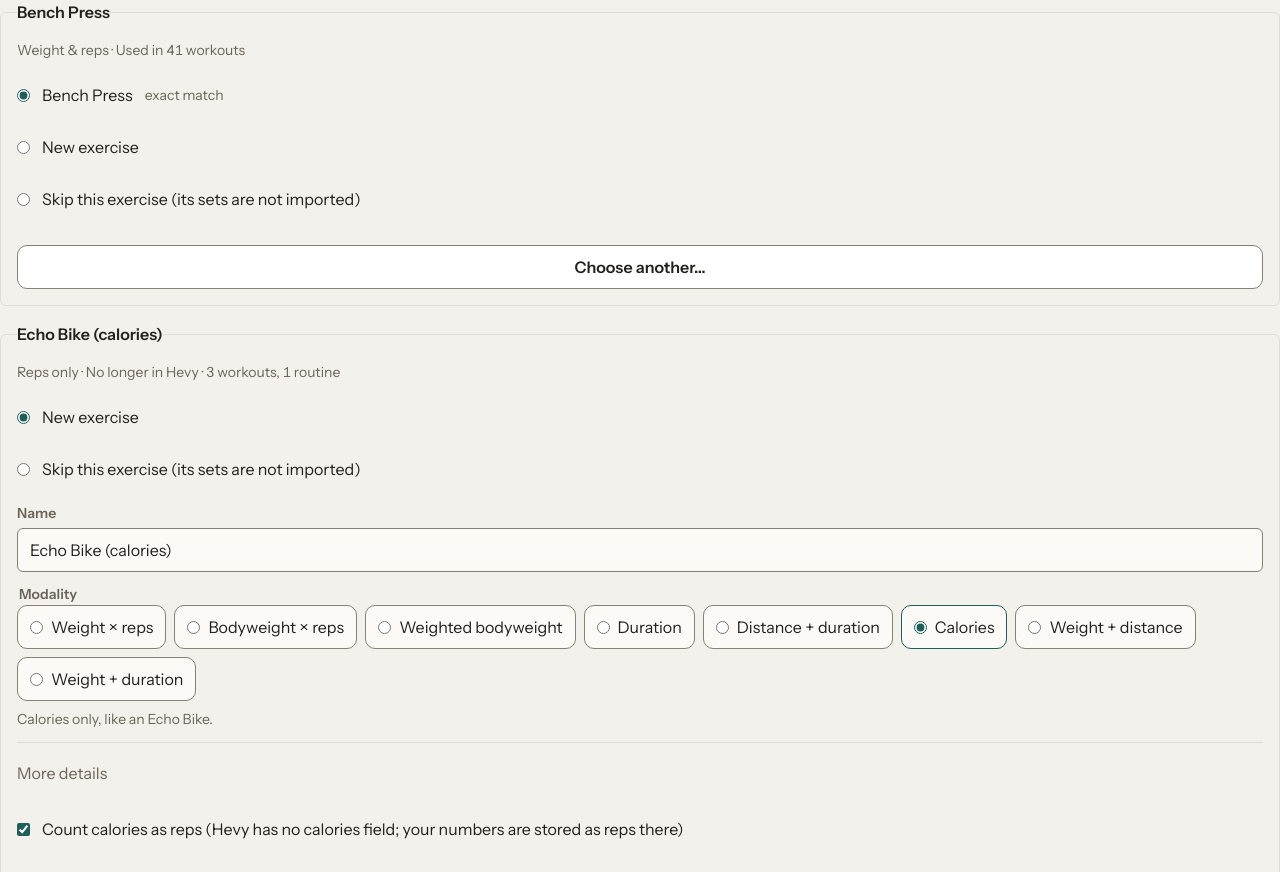
20.0 AC26 — PairingCards › Choose another opens the picker with no create row
Click the button with aria-label "Choose another… for Bench Press" at {"x": 640, "y": 267}, box x1=17 y1=245 x2=1263 y2=289
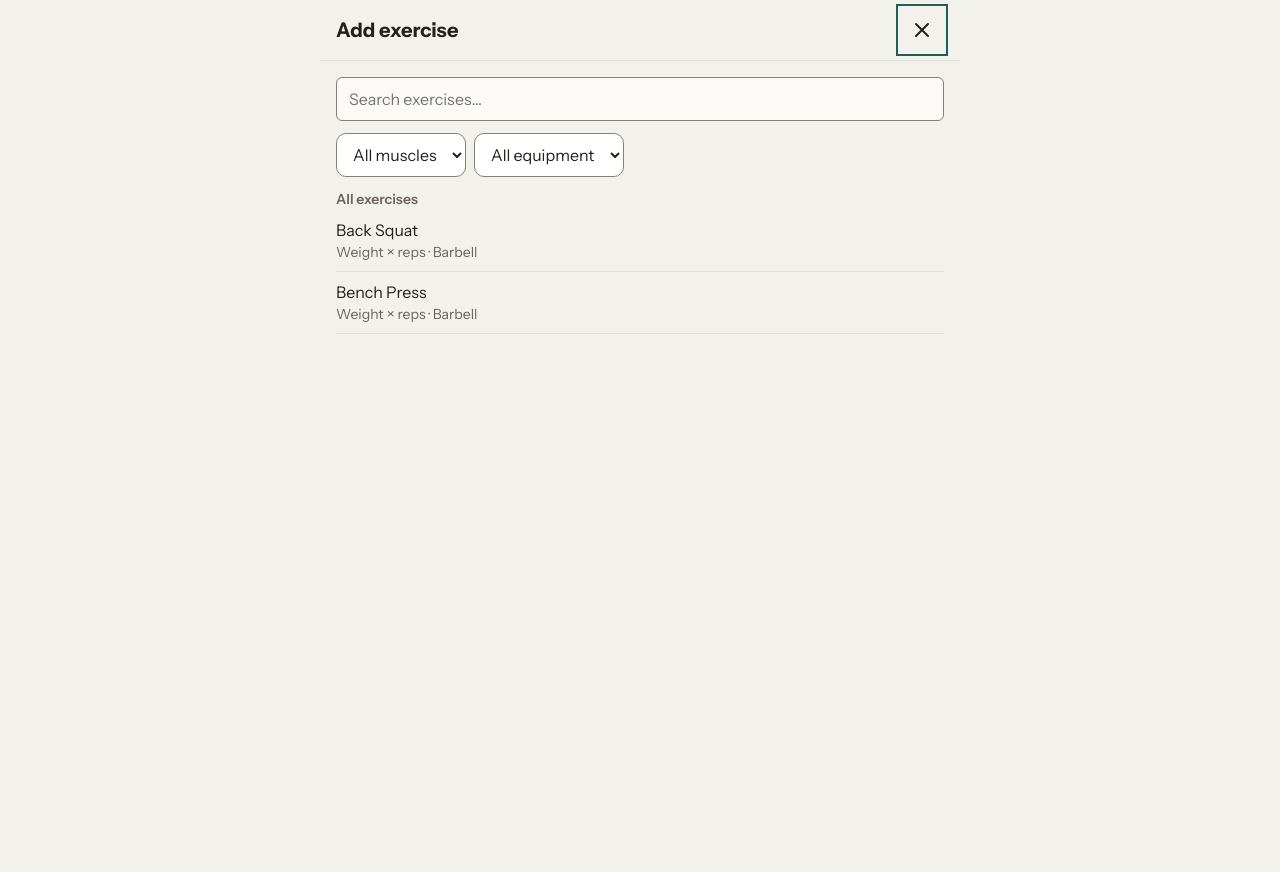
Click the button "Back Squat Weight × reps · Barbell" at {"x": 377, "y": 230}, box x1=336 y1=210 x2=944 y2=272
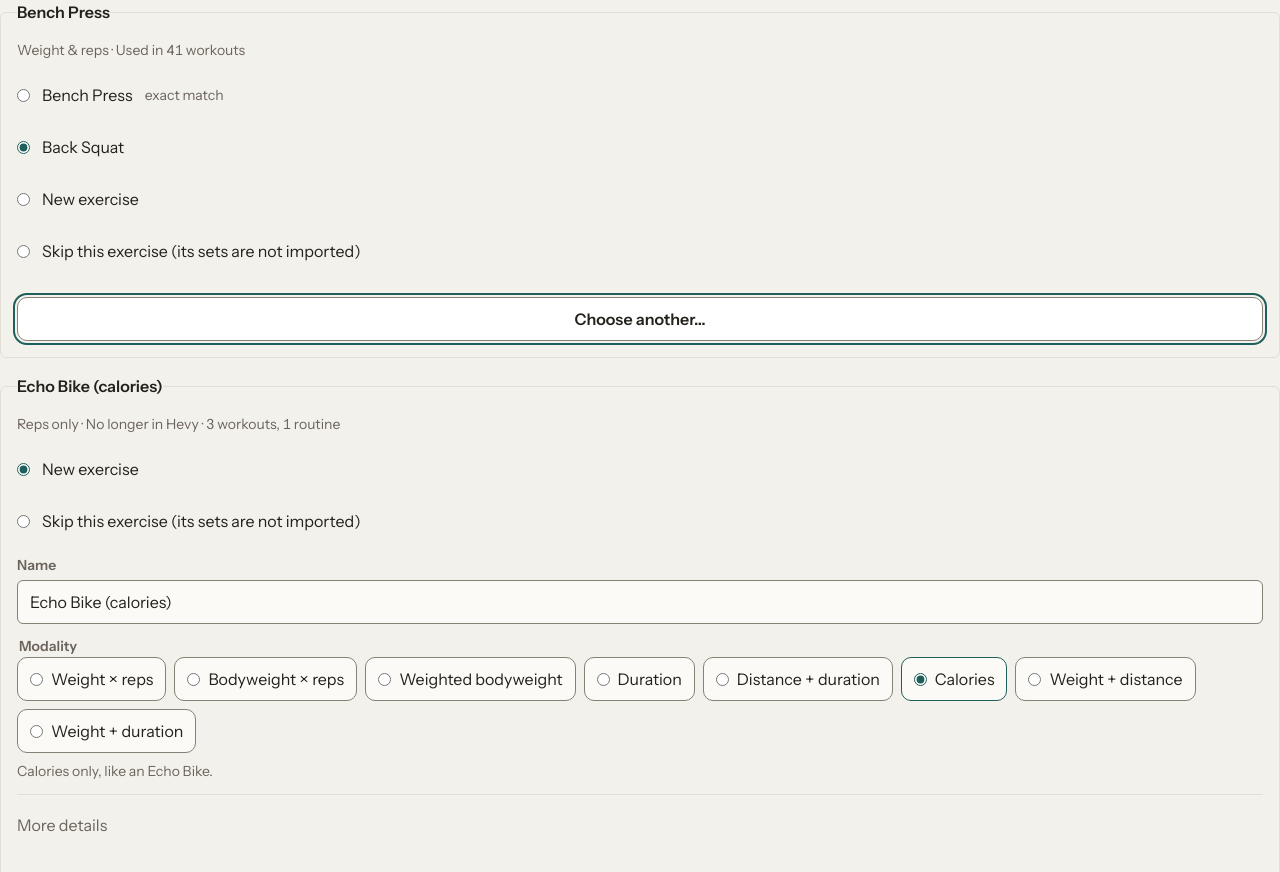
Check: the radio button labelled "Back Squat" is checked, box x1=17 y1=140 x2=30 y2=154
